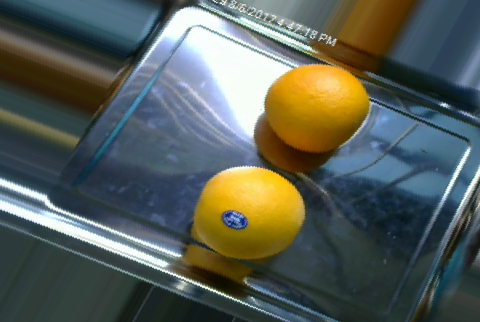Orange: (193, 165, 306, 258), (263, 63, 370, 153)
